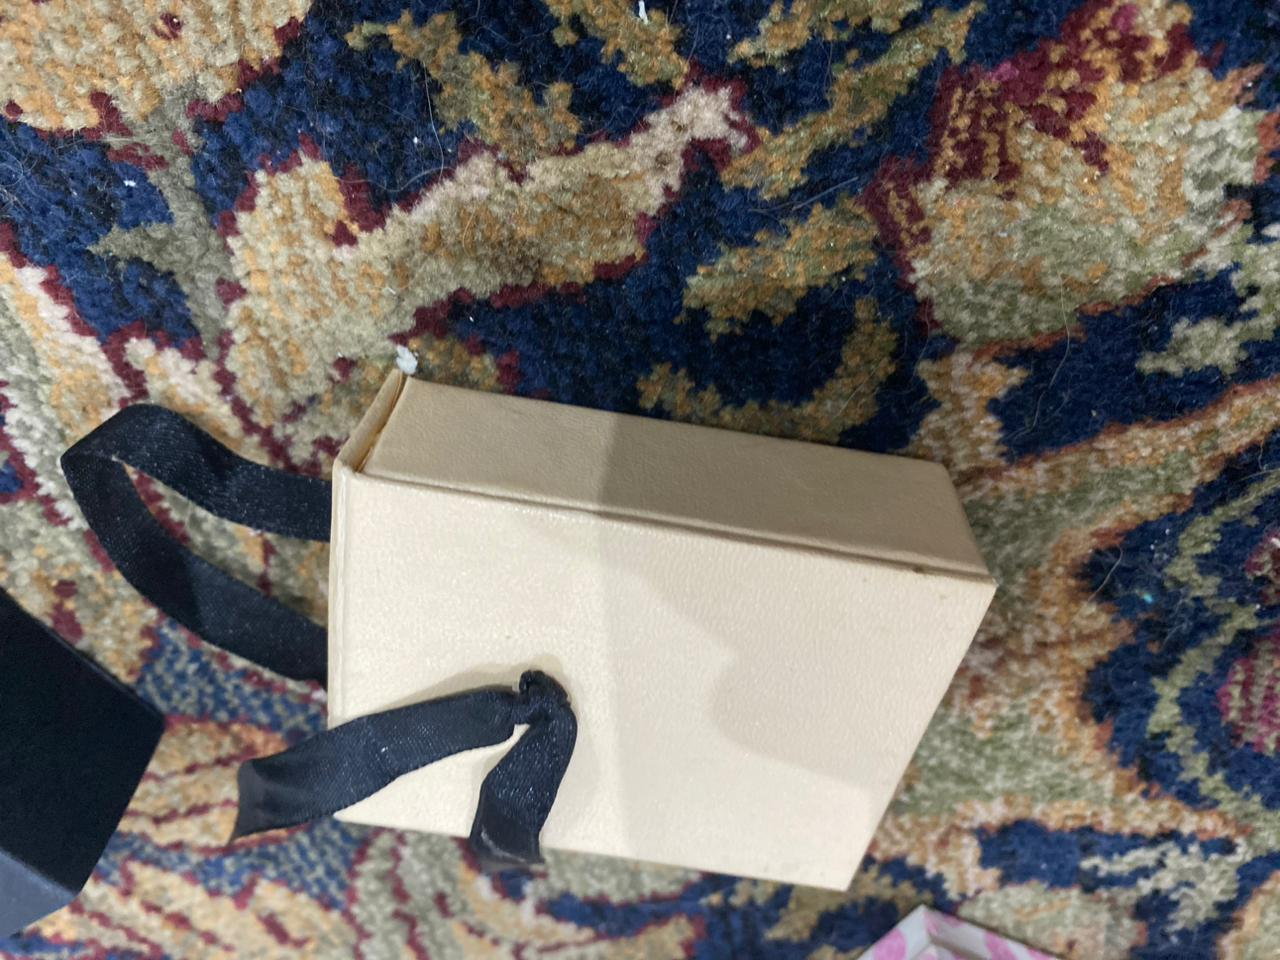Pink Box: (316, 359, 999, 894)
Red Box: (5, 587, 180, 939)
